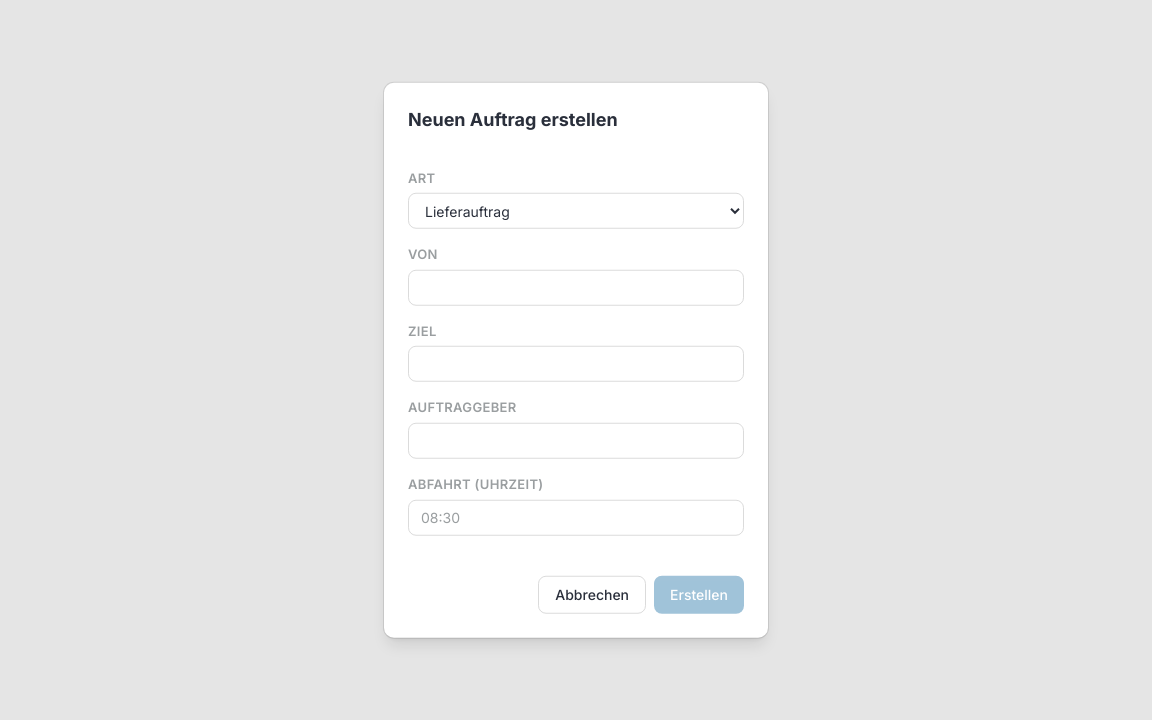
Scenario: AuftragErstellenDialog — Validierung › 'Erstellen' aktiviert wenn Von, Ziel und Auftraggeber gefüllt
The width and height of the screenshot is (1152, 720).
Type "Lager A" into the field labelled "Von" at (576, 288), box [408,270,744,306]
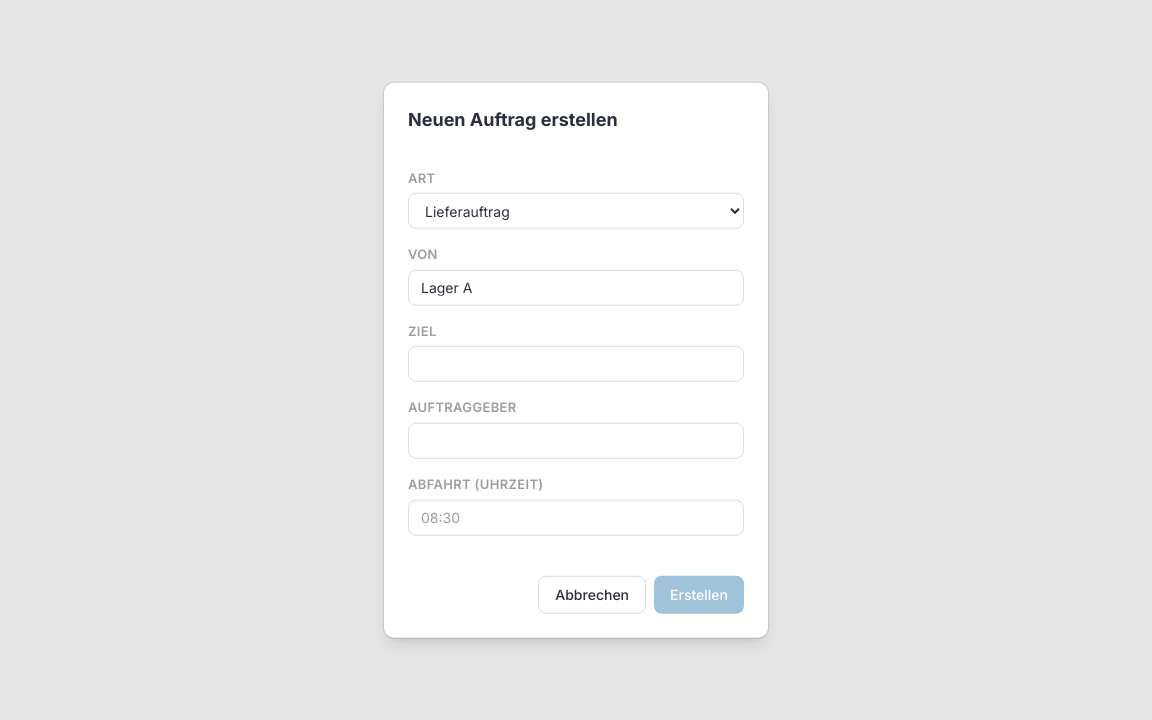
Type "Hauptgebäude" into the field labelled "Ziel" at (576, 364), box [408,346,744,382]
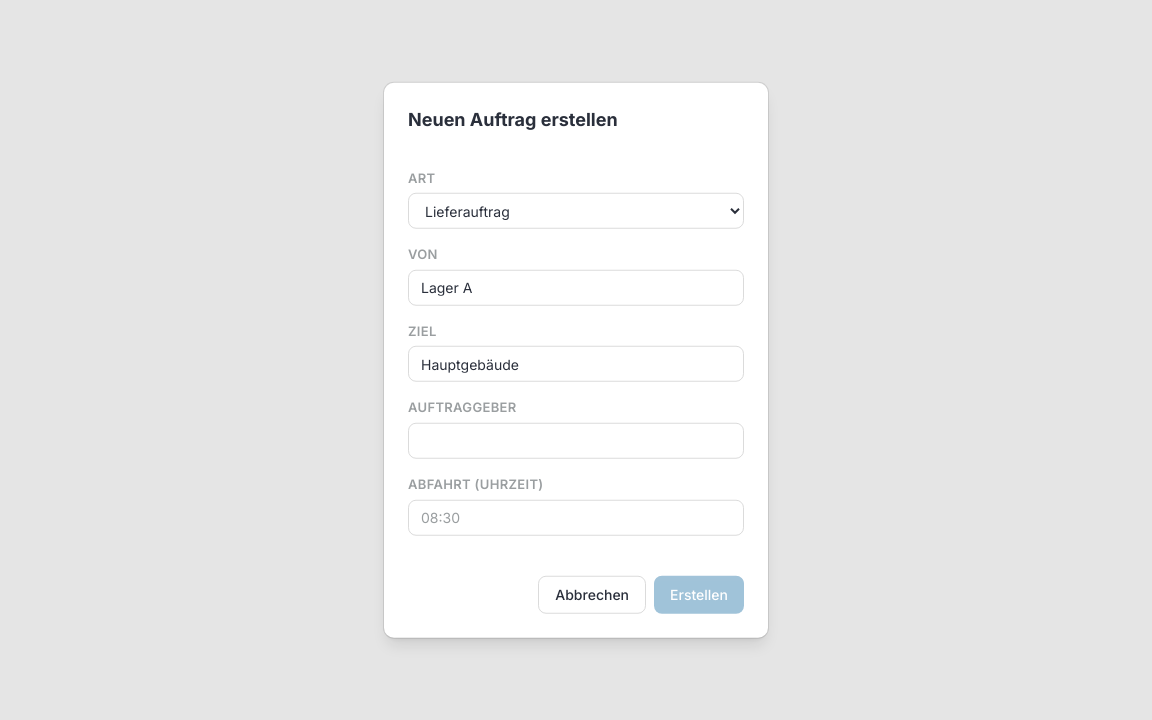
Type "Max M." into the field labelled "Auftraggeber" at (576, 441), box [408,423,744,459]
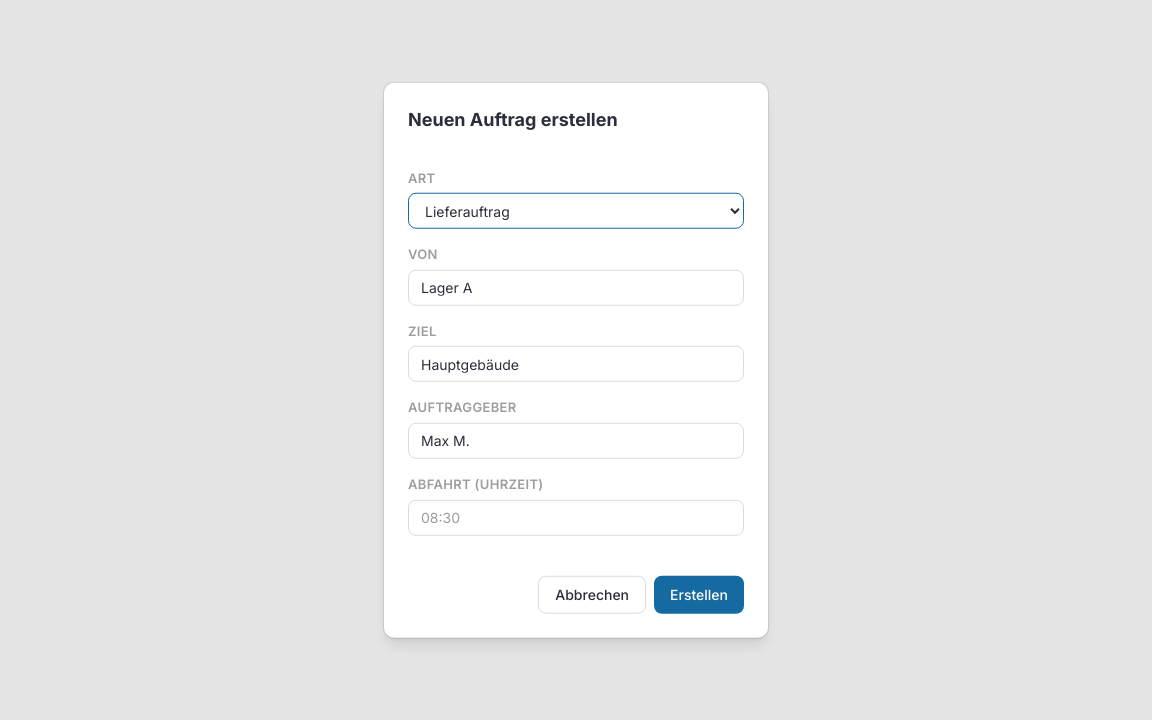
Expected: the button "Erstellen" is enabled, [654,575,744,613]
